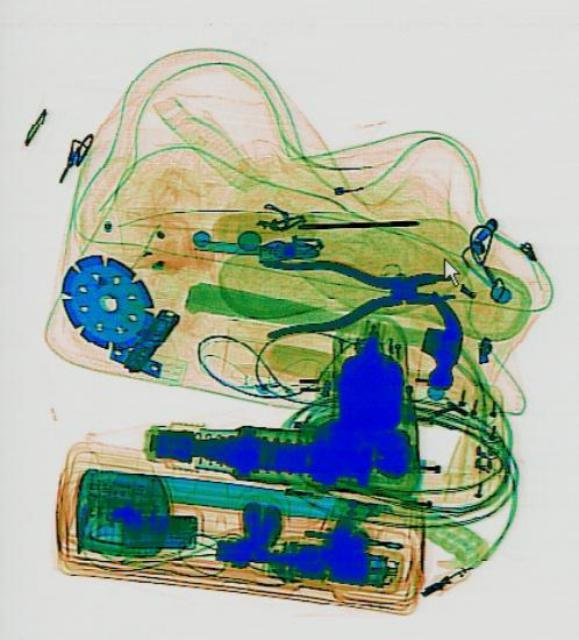Pliers: (257, 246, 456, 336)
